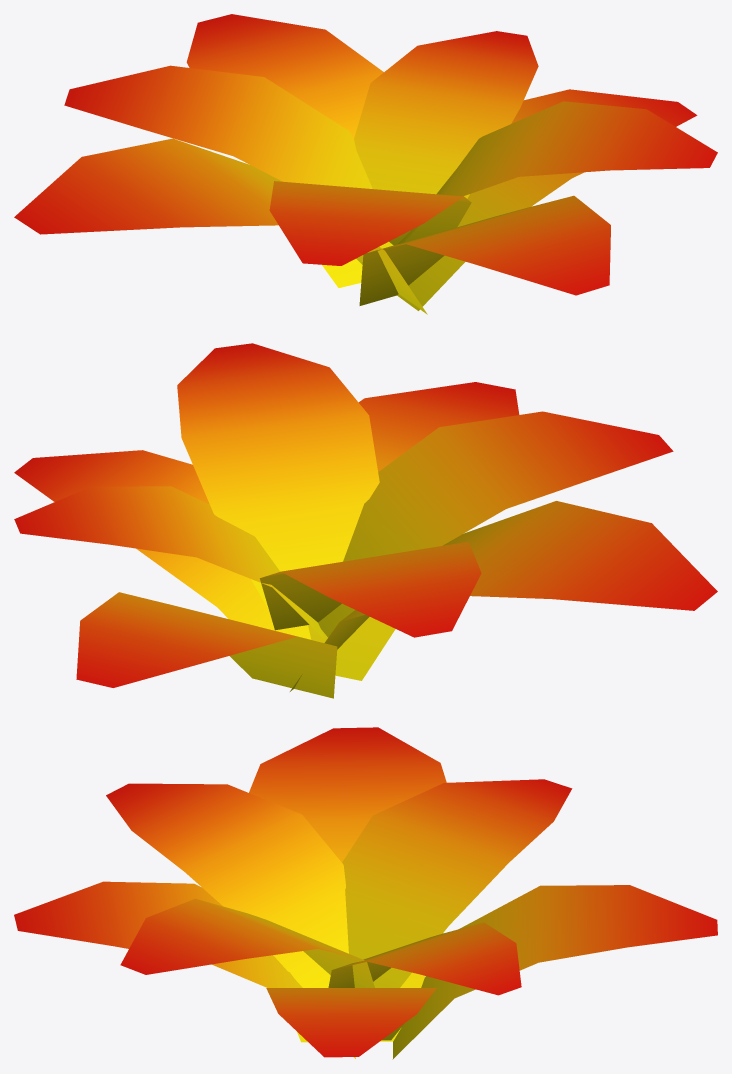
File: plant01.fbx
3 renders of one model, top to bottom at view 1: azimuth 30°, elevation 25°; view 2: azimuth 150°, elevation 25°; view 3: azimuth 270°, elevation 25°, orthographic. The views are drawn at different scales.
Parts seen in each view (by area): view 1: Plant01; view 2: Plant01; view 3: Plant01.
Part boxes in pixels (x1,y1,x2,y2): Plant01: (14, 14, 717, 314); Plant01: (14, 343, 717, 698); Plant01: (14, 727, 717, 1059).
Bounding box in the file's own units: 120 × 31.92 × 121.
